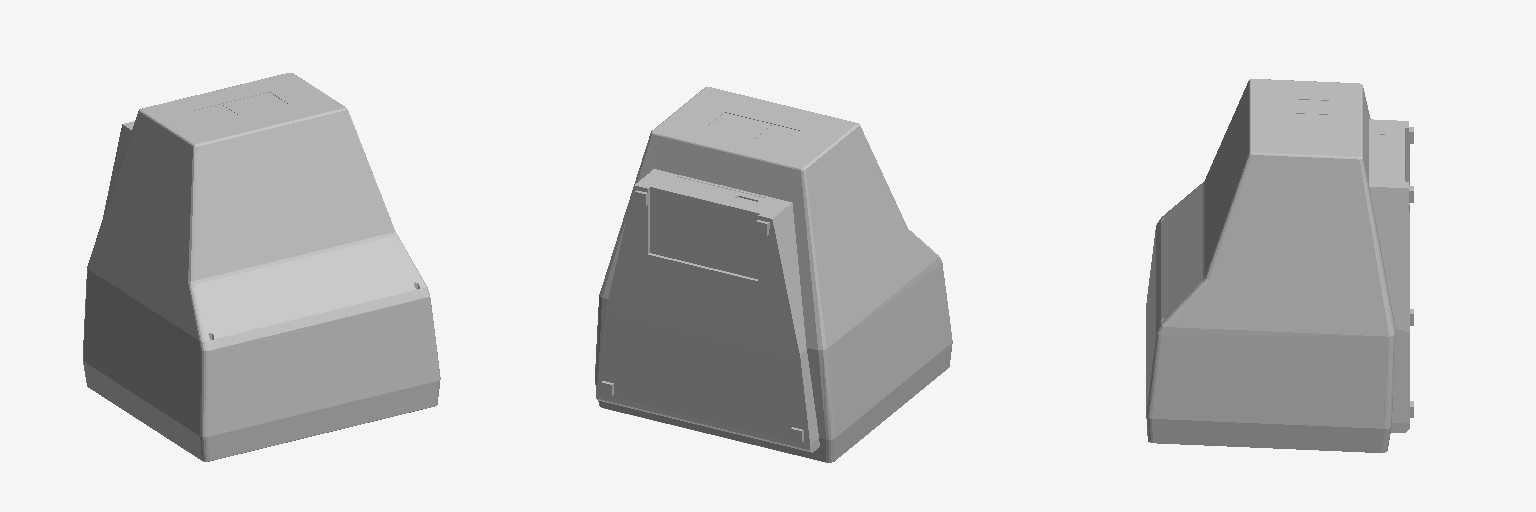
The model's file is proCRT.obj.
3 views of the same model, side by side, from view 1: azimuth 30°, elevation 25°; view 2: azimuth 150°, elevation 25°; view 3: azimuth 270°, elevation 25° (orthographic).
Parts seen in each view (by area): view 1: CRTMonitor_Cube.023; view 2: CRTMonitor_Cube.023; view 3: CRTMonitor_Cube.023.
Part boxes in pixels (x1,y1,x2,y2): CRTMonitor_Cube.023: (83, 73, 440, 461); CRTMonitor_Cube.023: (595, 87, 952, 462); CRTMonitor_Cube.023: (1146, 79, 1413, 452).
Size of the model in its own units: 36.53 by 40.86 by 35.24.